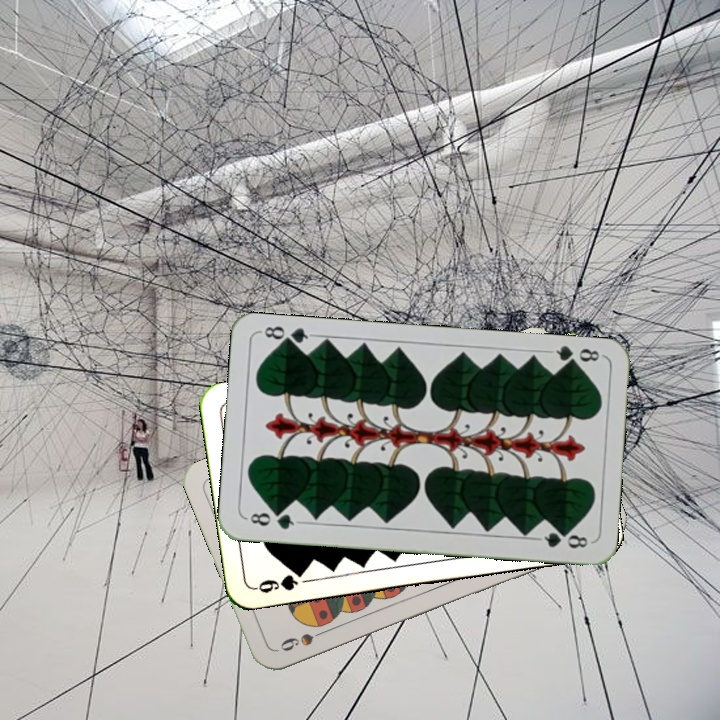G8: (545, 342, 604, 370), (243, 507, 302, 532)
G9: (251, 565, 308, 596)
S9: (276, 624, 332, 654)
